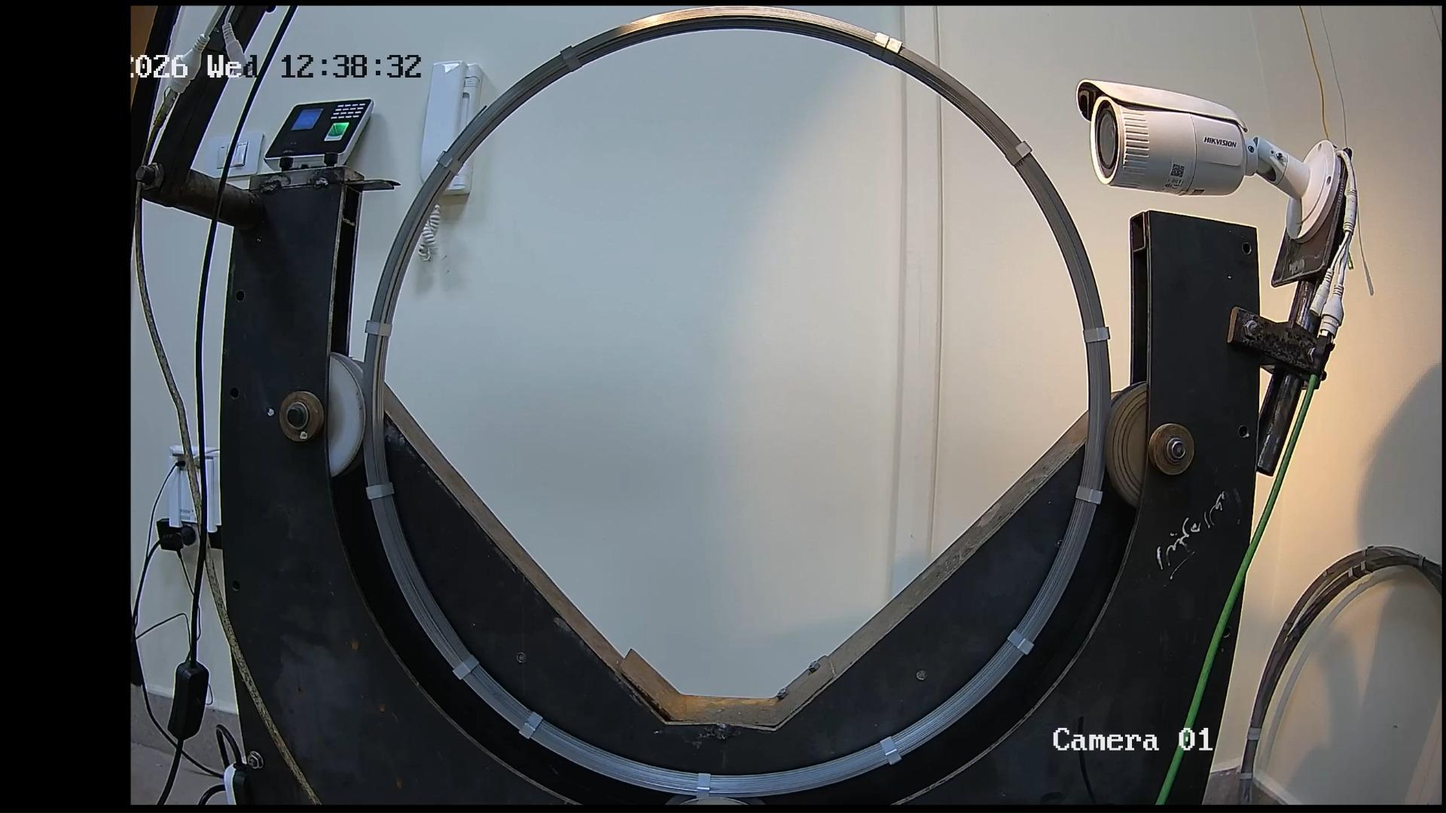Clamp: (438, 150, 465, 175), (1008, 629, 1033, 653), (879, 736, 901, 763), (519, 712, 541, 738), (881, 38, 902, 65), (1006, 142, 1030, 165), (454, 655, 477, 678), (870, 33, 889, 60), (366, 482, 394, 499), (1076, 486, 1102, 504), (560, 47, 581, 69), (1084, 327, 1109, 343), (365, 321, 390, 335), (695, 773, 710, 796)
